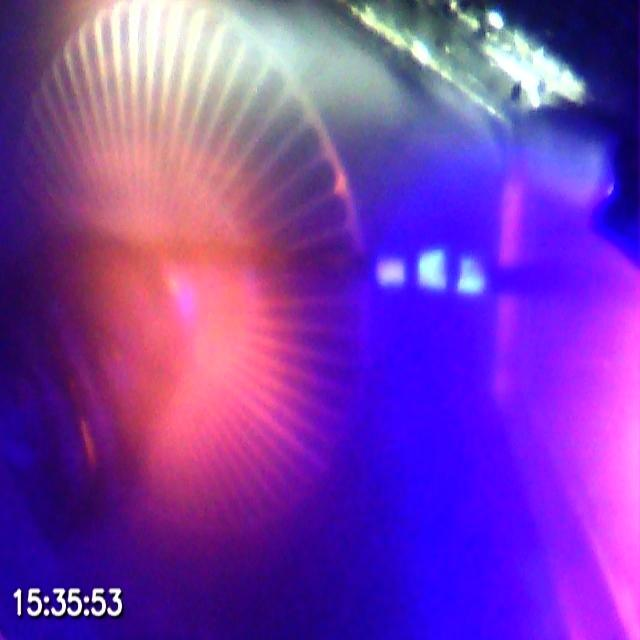white-dots: (375, 248, 488, 300)
